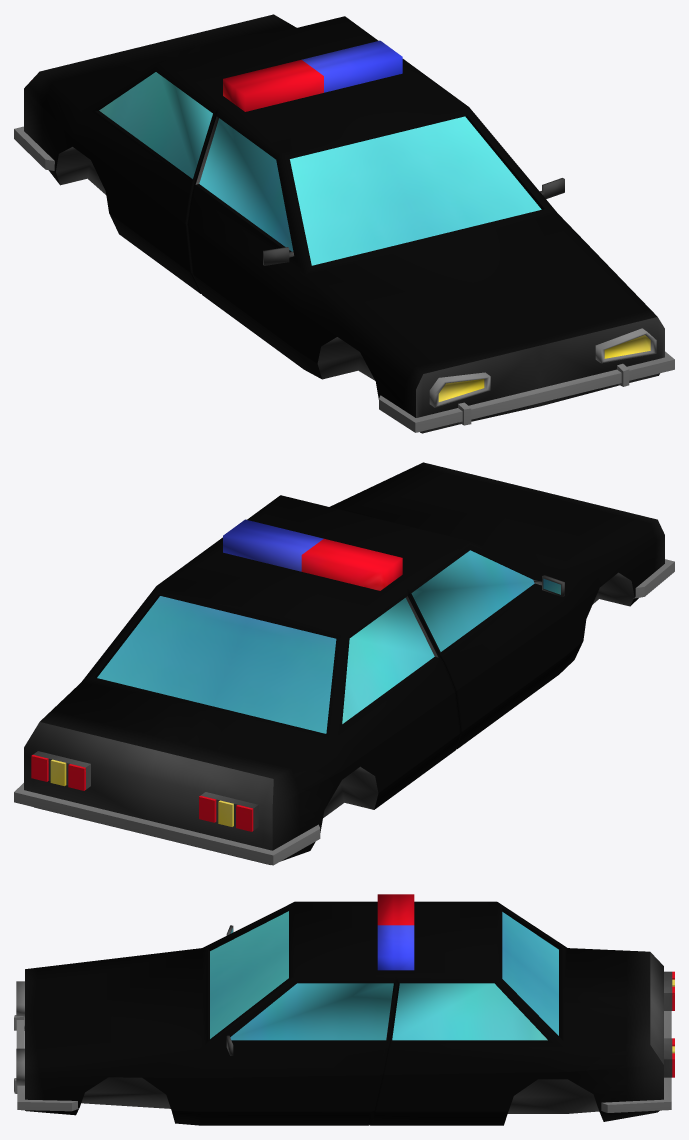
Rendered from police_car_1.fbx.
3 renders of one model, top to bottom at view 1: azimuth 30°, elevation 25°; view 2: azimuth 150°, elevation 25°; view 3: azimuth 270°, elevation 25°, orthographic. The views are drawn at different scales.
Visible parts, largest first — view 1: police_car_1; view 2: police_car_1; view 3: police_car_1.
Part boxes in pixels (box(x1,y1,x2,y2)): police_car_1: box(14, 14, 674, 433); police_car_1: box(14, 462, 674, 865); police_car_1: box(14, 894, 674, 1125).
Bounding box in the file's own units: 246 × 145 × 575.
Materials: 1 (1 with a texture image).
